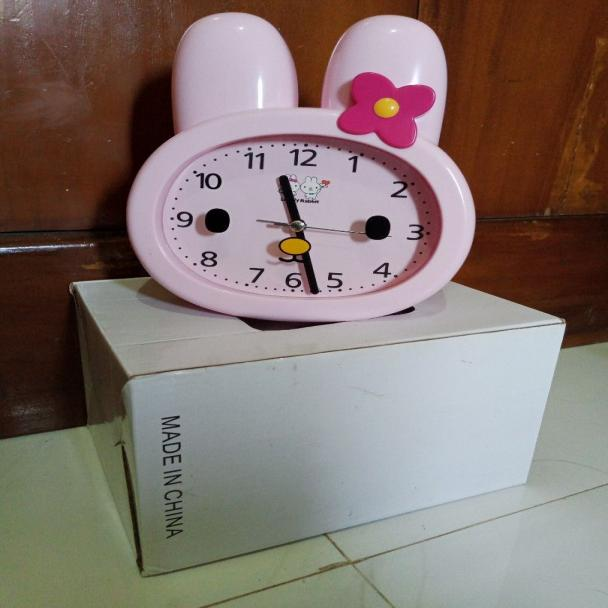Jam: (143, 14, 451, 317)
